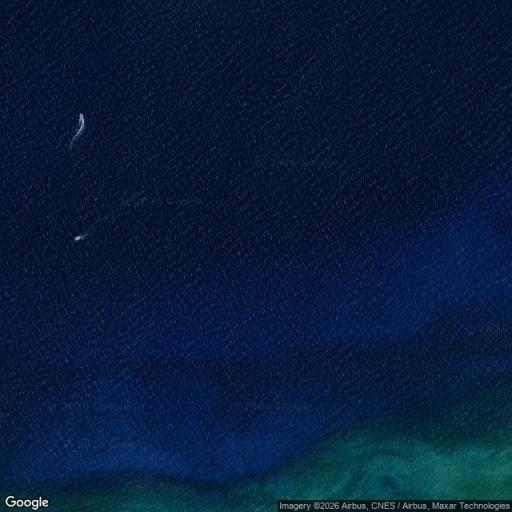ship: (62, 106, 92, 146), (66, 234, 100, 248)
